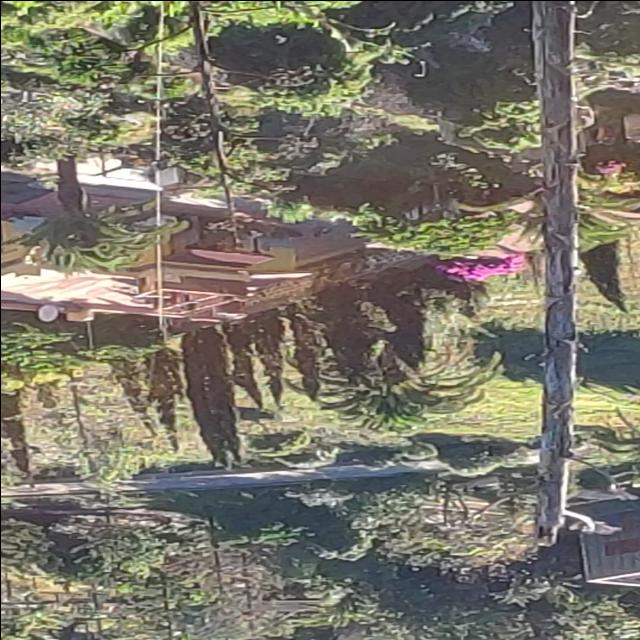Palm-Trees: (0, 154, 146, 264)
